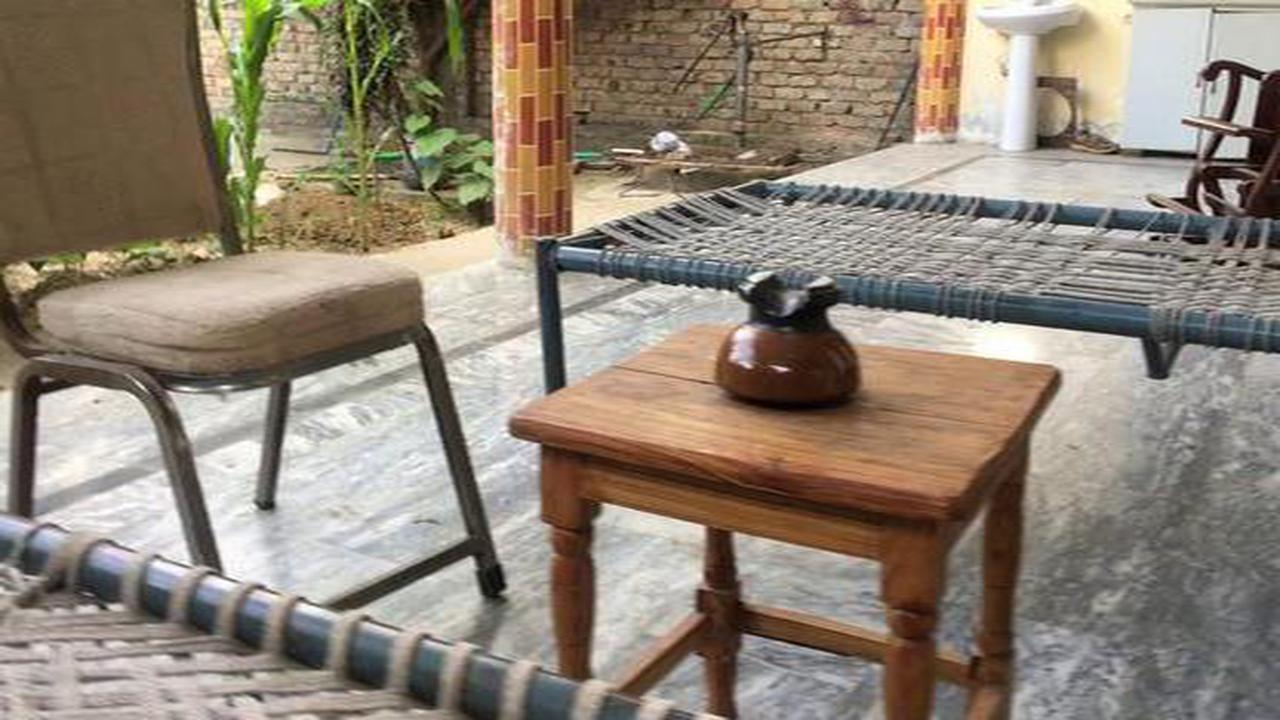insulator_pin: (702, 250, 890, 425)
